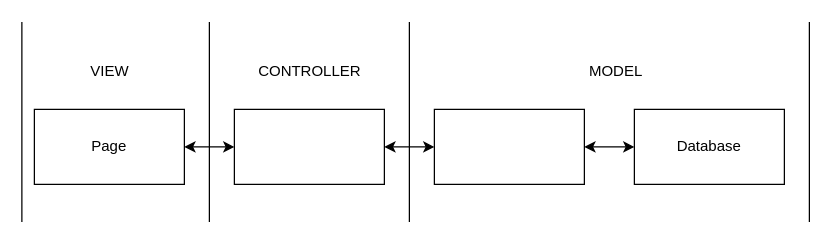
The diagram is 833 pixels wide and 245 high, and some of its shapes have lost their labels. The box of each missing label's shape, as (x1, y1, x2, y2) in pixels:
Application: (233, 108, 384, 184)
Bookmark Class: (433, 108, 584, 184)
